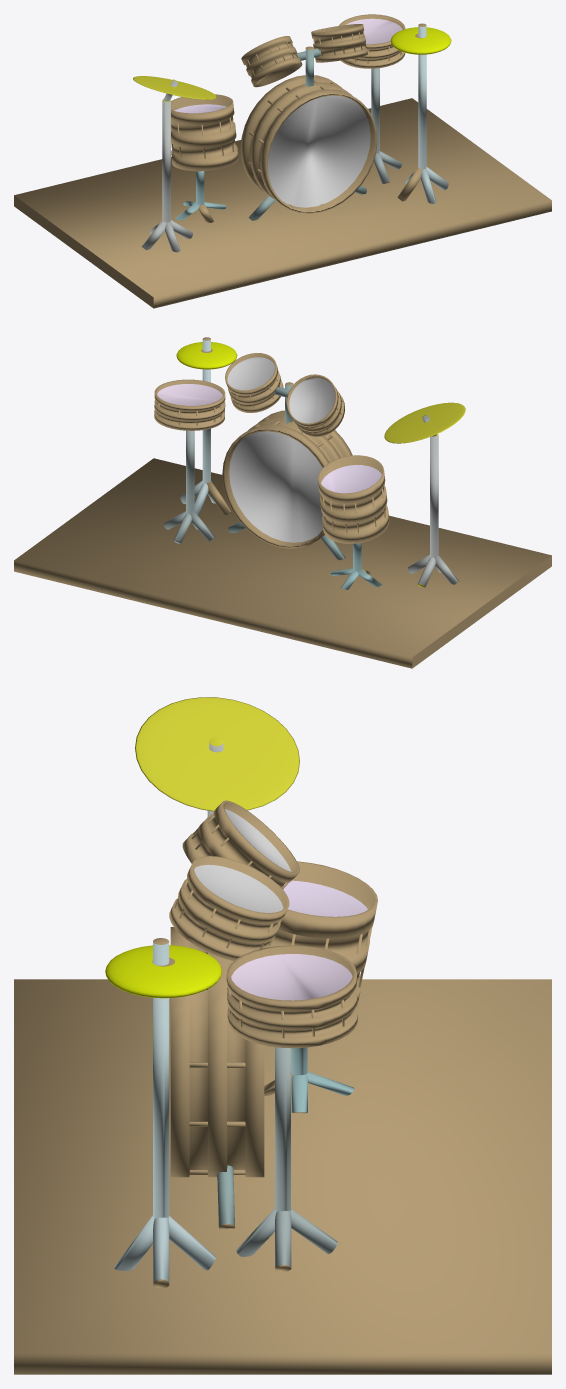
File: Drumkit.fbx
3 views of the same model, one above another, from view 1: azimuth 30°, elevation 25°; view 2: azimuth 150°, elevation 25°; view 3: azimuth 270°, elevation 25° (orthographic). The views are drawn at different scales.
Parts seen in each view (by area): view 1: DrumKitBase, Tom-toms, FloorTom, hi-hatCymbal, SnareDrum, RideCymbal; view 2: DrumKitBase, Tom-toms, FloorTom, SnareDrum, RideCymbal, hi-hatCymbal; view 3: DrumKitBase, Tom-toms, SnareDrum, RideCymbal, hi-hatCymbal, FloorTom.
Part boxes in pixels (x1,y1,x2,y2): DrumKitBase: (14, 98, 551, 308); Tom-toms: (240, 24, 377, 220); FloorTom: (171, 94, 238, 222); hi-hatCymbal: (390, 23, 451, 203); SnareDrum: (339, 14, 405, 183); RideCymbal: (133, 76, 216, 252); DrumKitBase: (14, 458, 551, 668); Tom-toms: (222, 353, 352, 560); FloorTom: (318, 455, 389, 589); SnareDrum: (154, 379, 225, 543); RideCymbal: (384, 402, 465, 587); hi-hatCymbal: (176, 337, 237, 515); DrumKitBase: (14, 979, 551, 1374); Tom-toms: (169, 800, 299, 1228); SnareDrum: (226, 945, 358, 1271); RideCymbal: (135, 697, 299, 1041); hi-hatCymbal: (105, 938, 222, 1287); FloorTom: (264, 861, 377, 1113).
Bounding box in the file's own units: 8.67 × 3.91 × 5.27.
